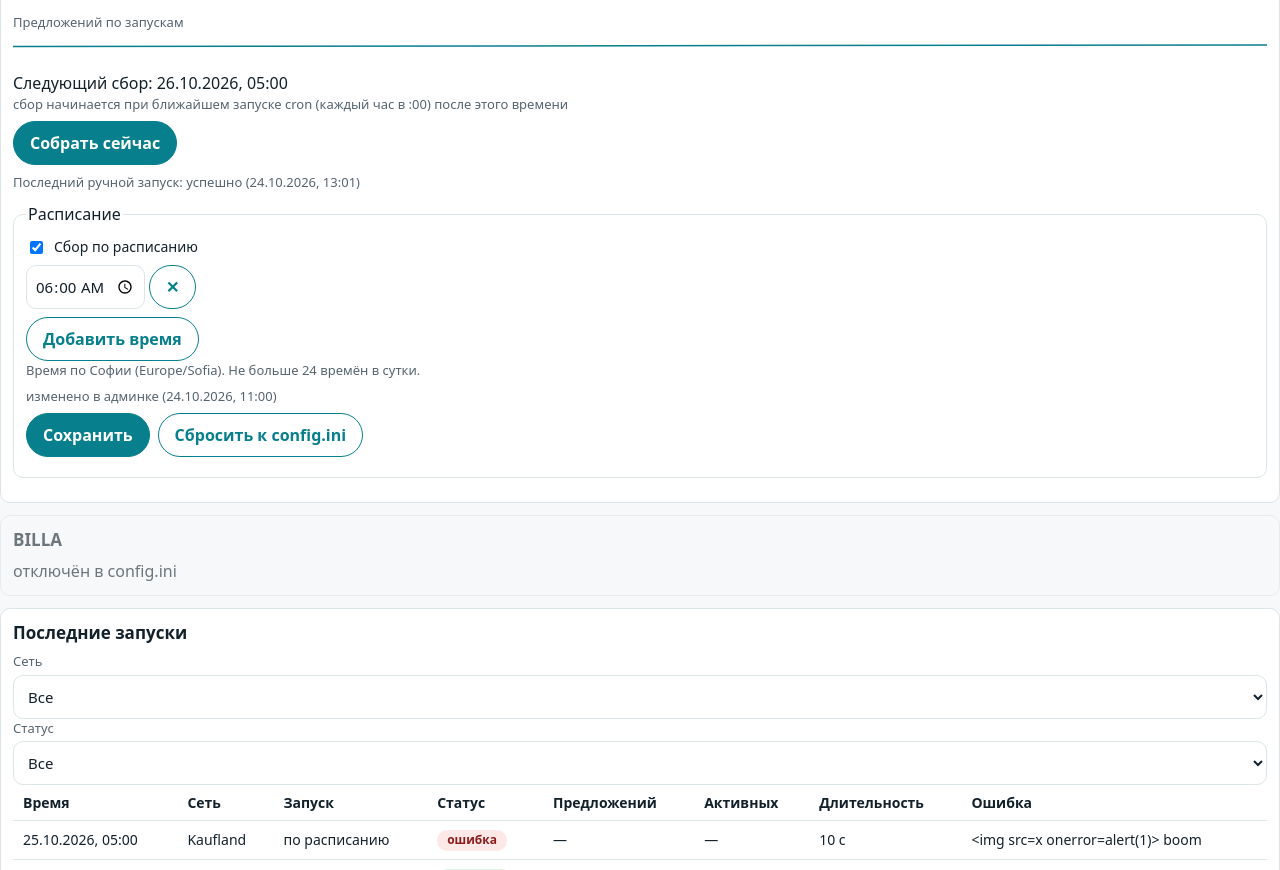
Test: Collection tab › shows the 422 error from the server
This screenshot has width=1280, height=870.
(page scrolled)
Click the button "Сохранить": (88, 435) 26,413 -> 150,457
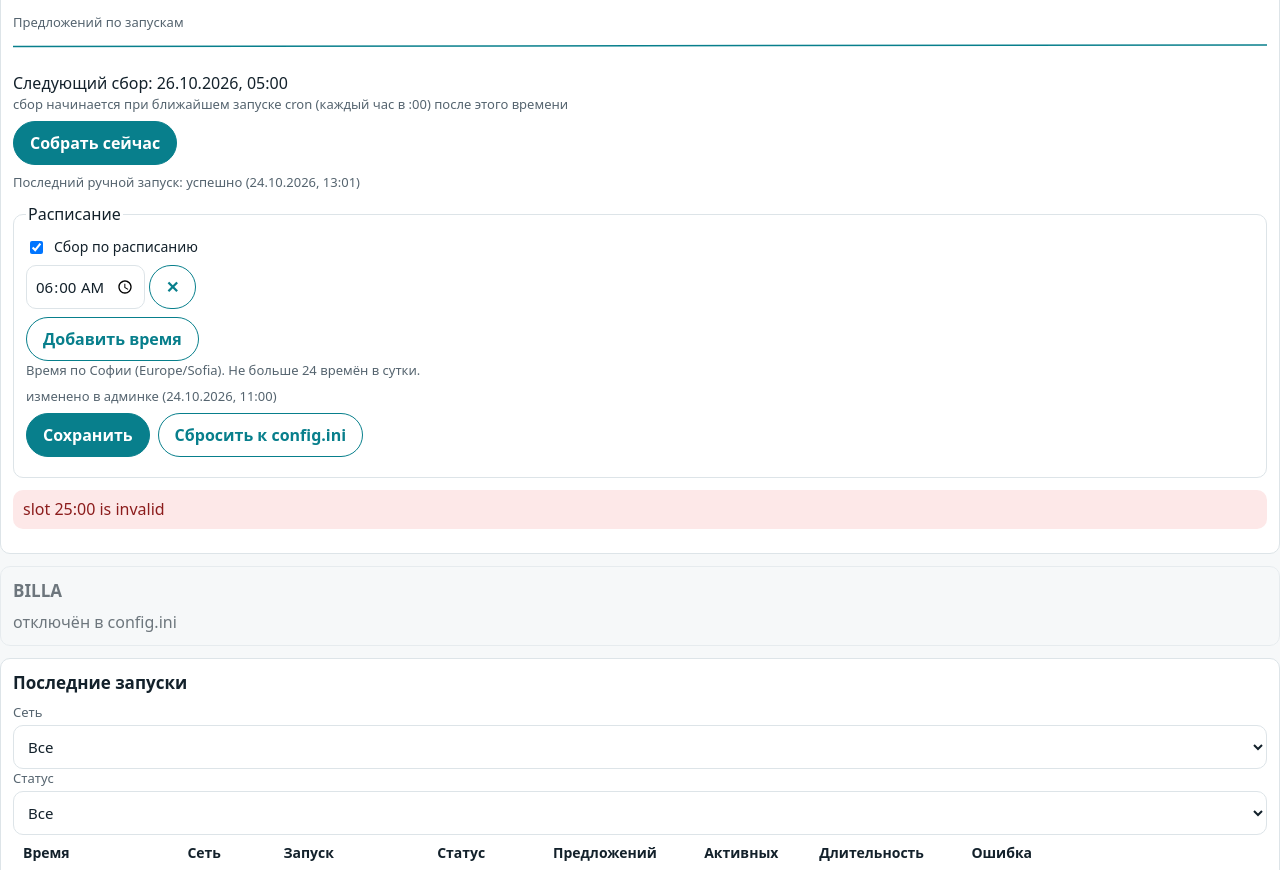
Now the text "slot 25:00 is invalid" is shown, box 13,490 -> 1267,529
